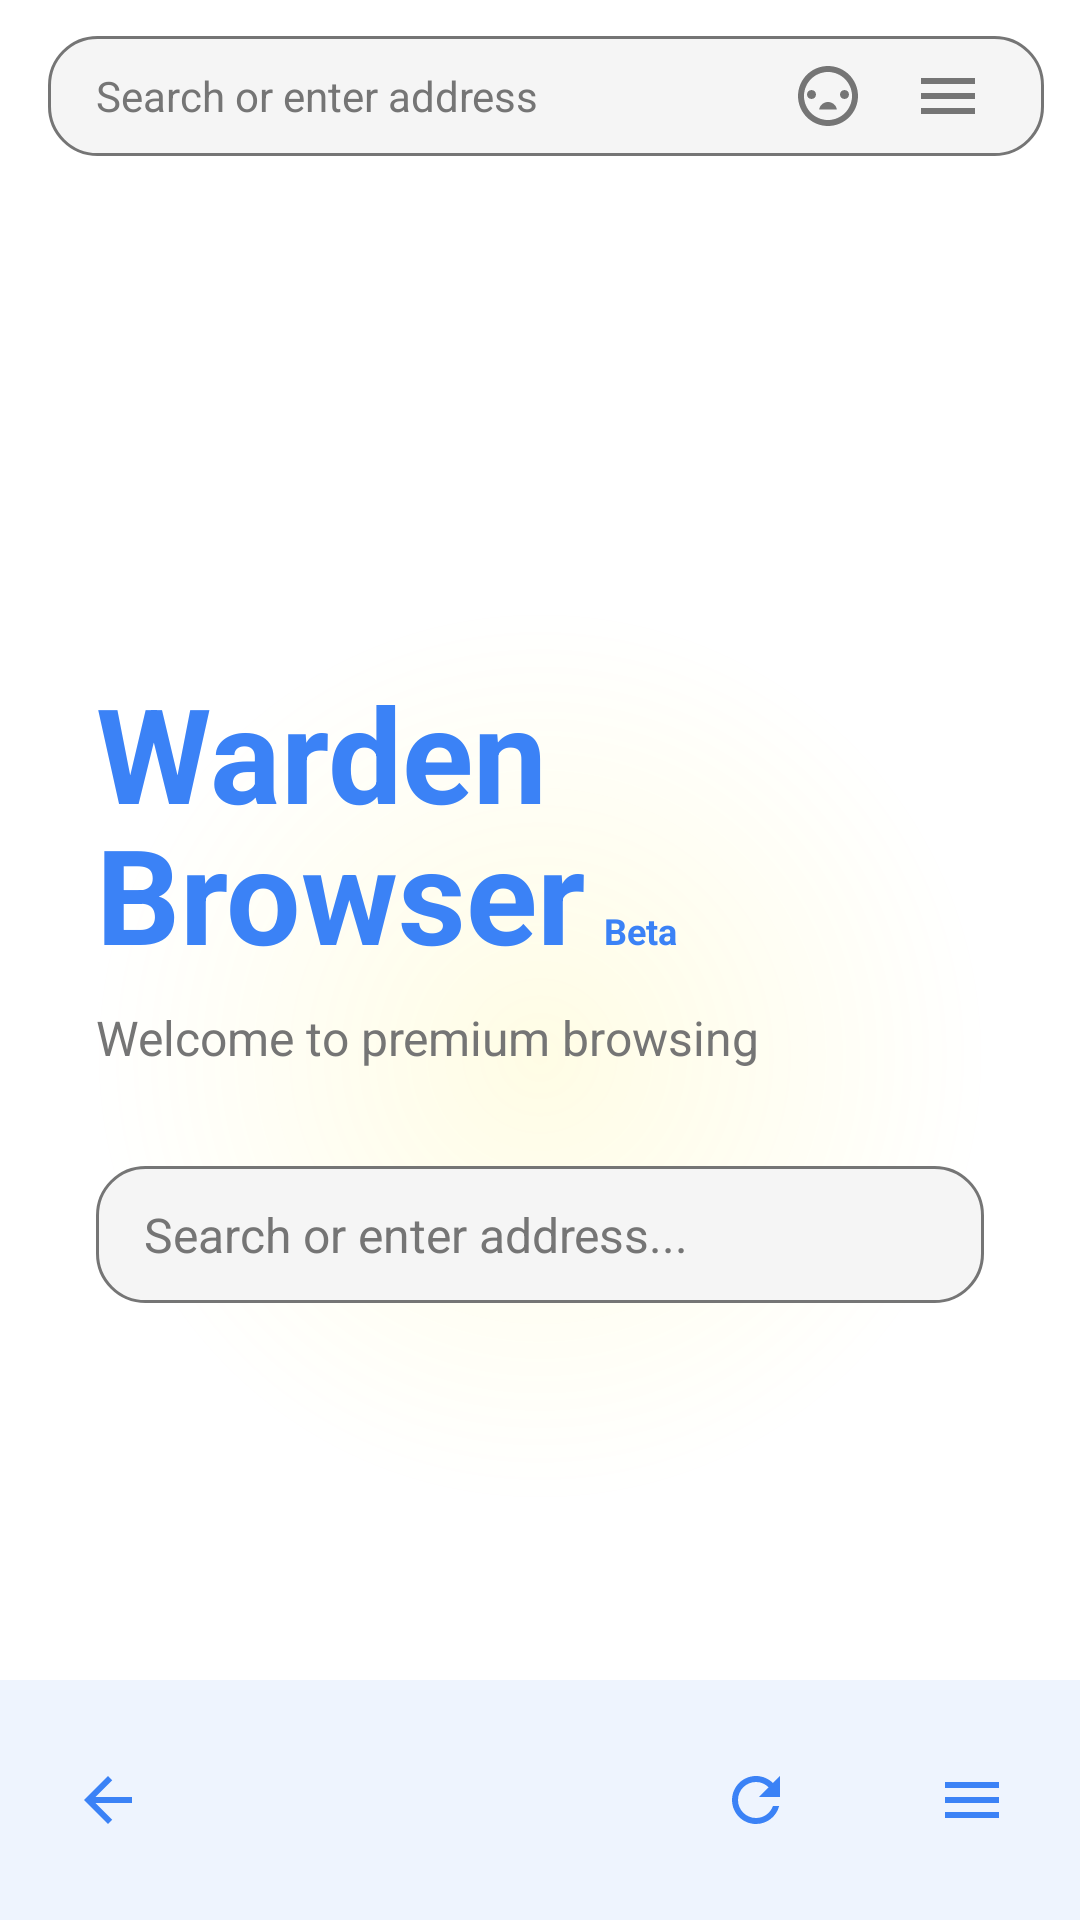

Named icons in this screenshot (1080x1920) and their bounding boxes, [x1,y1,x2,y2]:
Menu: [921,78,975,114]
